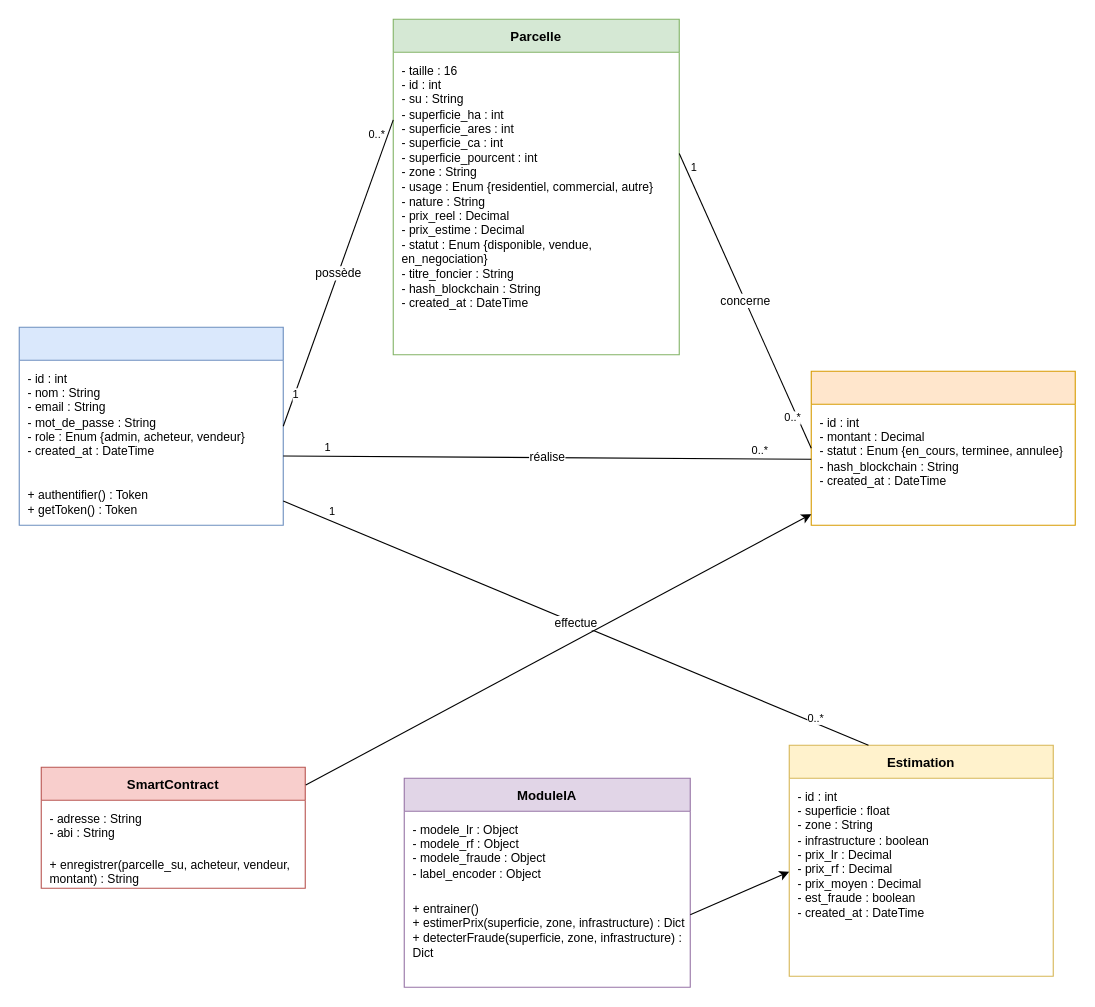
Image size: 1095x1007. Some labels were removed from this diagram. The box of each missing label's shape, as (x1, y1, x2, y2) in pixels:
Transaction: (810, 370, 1075, 525)
Utilisateur: (18, 326, 283, 525)
